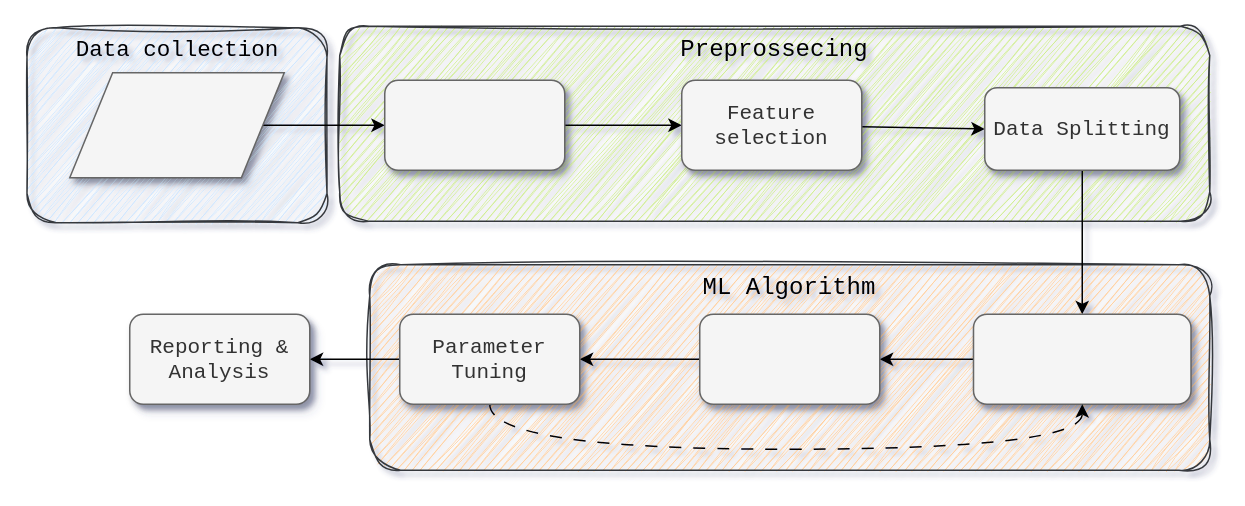
The diagram is 1245 pixels wide and 506 high, and some of its shapes have lost their labels. Here are the shapes that lost their labels. From the top down, the centre of each, then its label:
At point 177,126: "Amazon EC2 Dataset".
At point 475,127: "Preprossecing steps".
At point 790,361: "Model Evaluation".
At point 1083,361: "Model Training".
